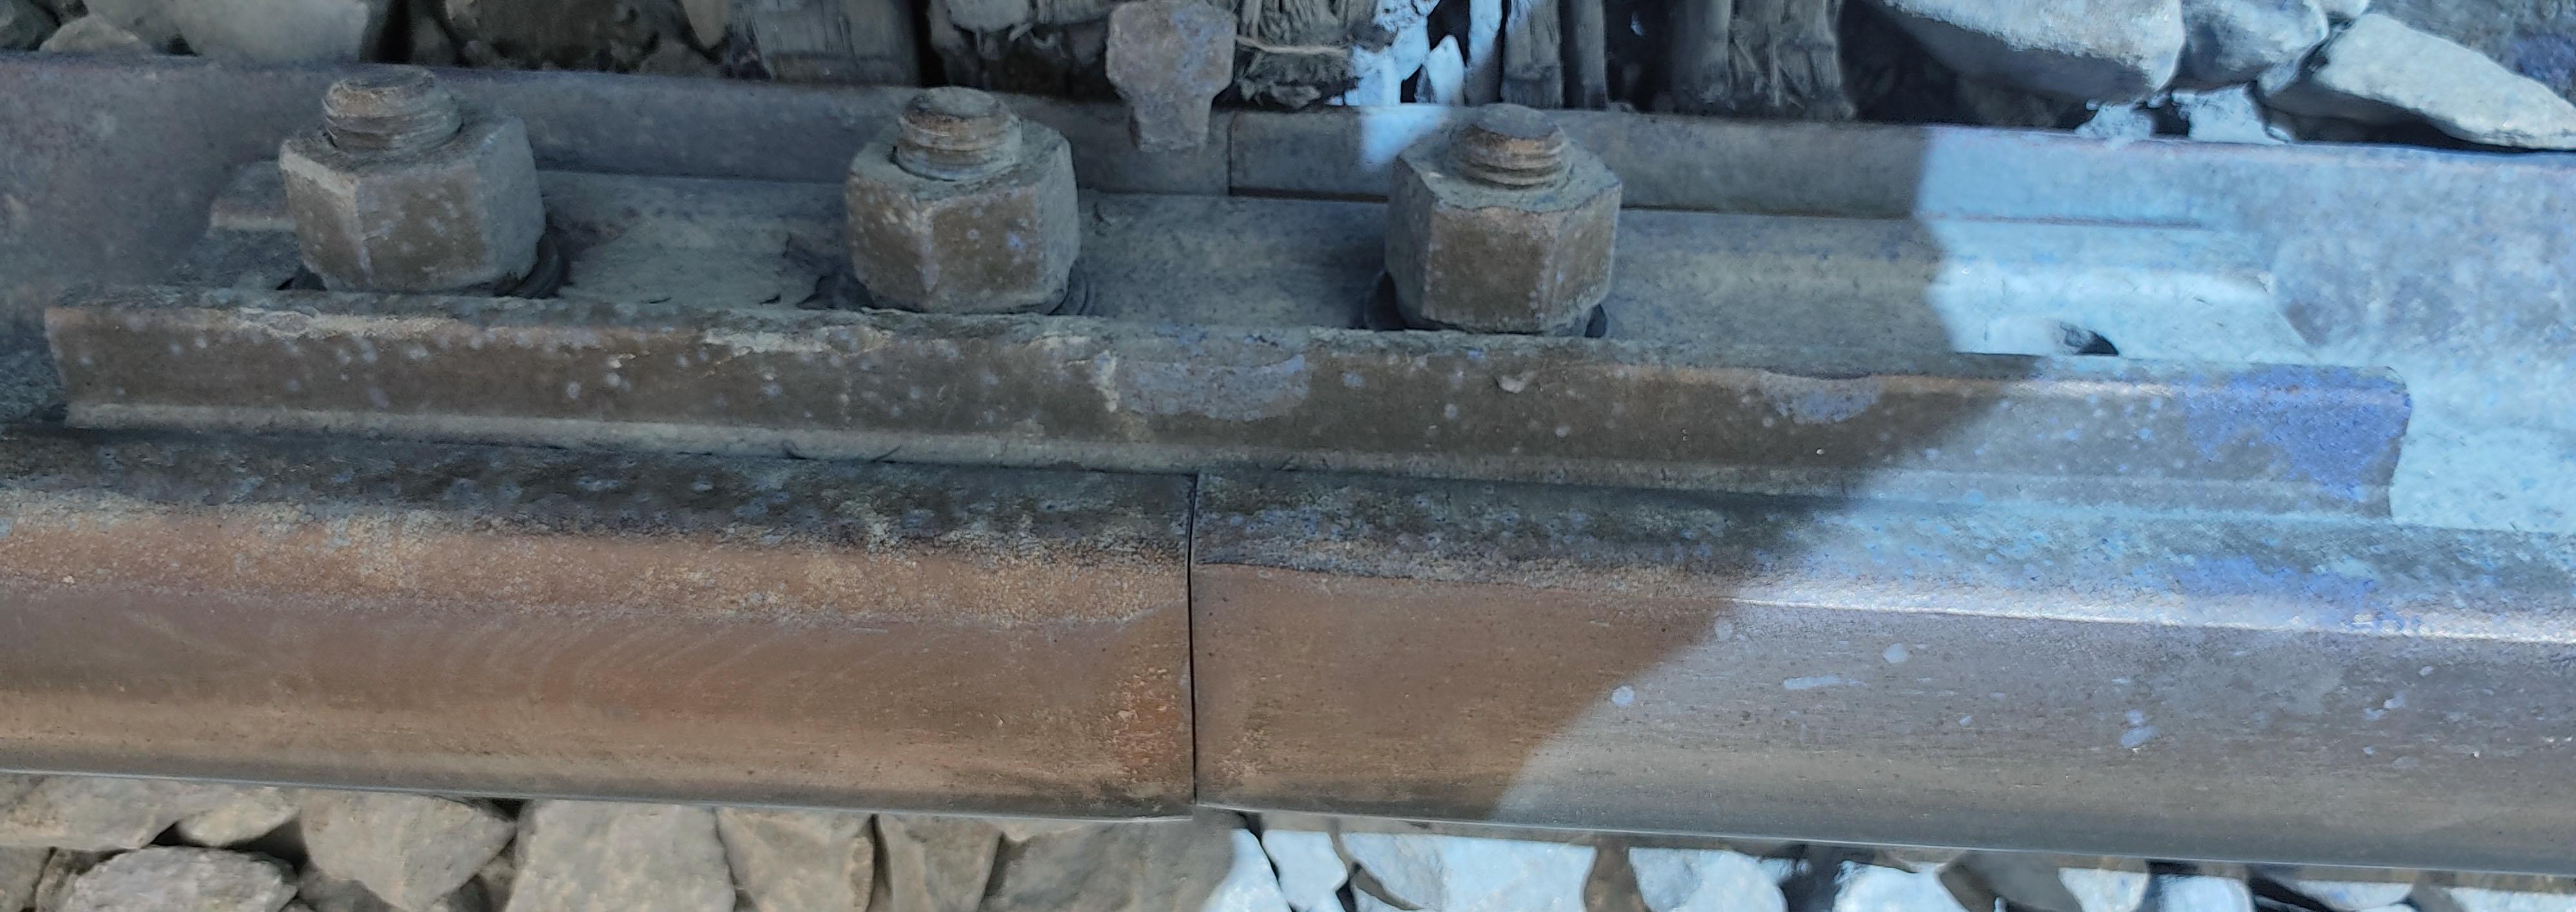error2: (1132, 437, 1255, 905)
